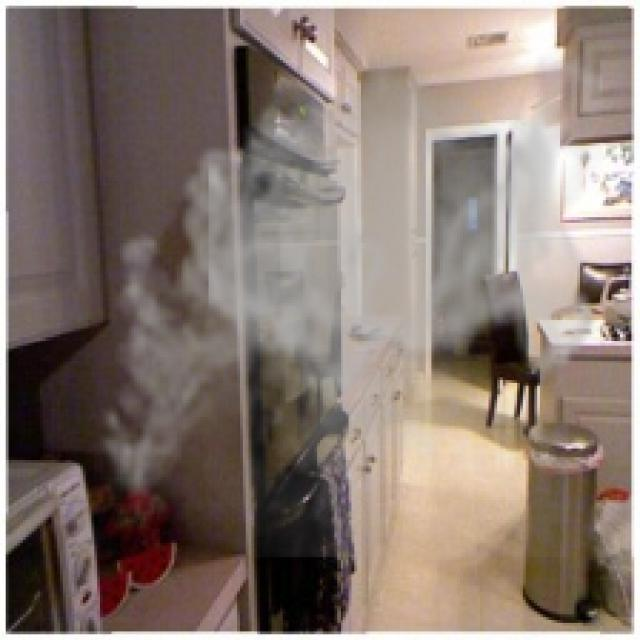Smoke: (86, 31, 603, 558)
